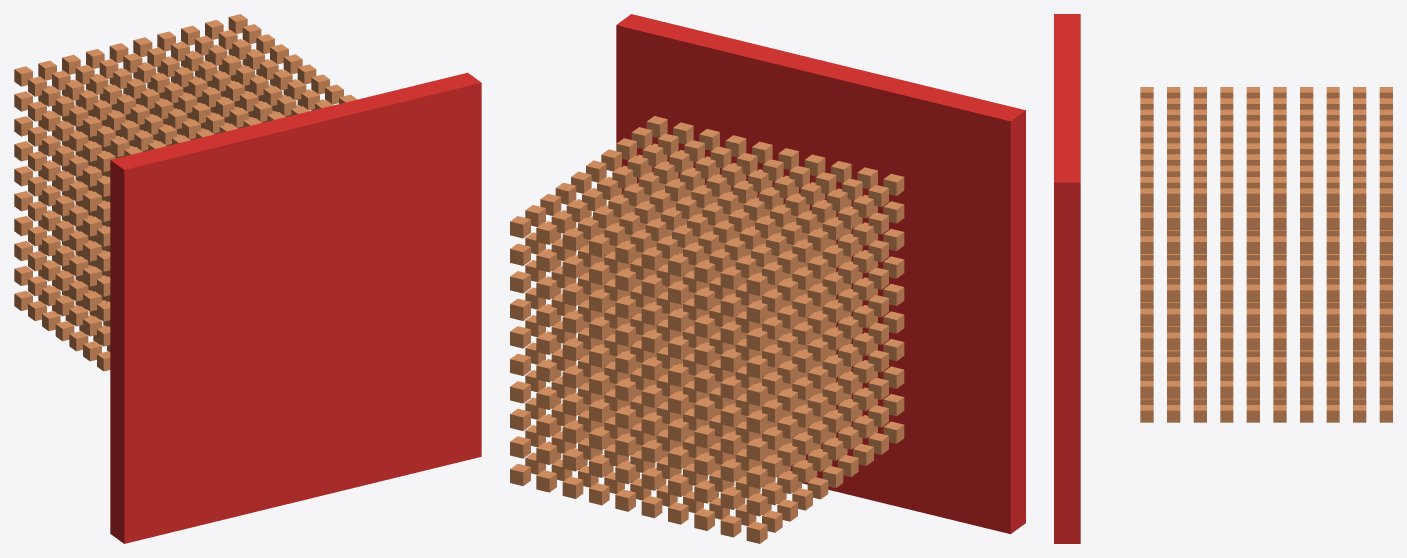
File: testing_prepass.glb
3 views of the same model, side by side, from view 1: azimuth 30°, elevation 25°; view 2: azimuth 150°, elevation 25°; view 3: azimuth 270°, elevation 25° (orthographic). The views are drawn at different scales.
Visible parts, largest first — view 1: lsat; view 2: lsat; view 3: lsat.
Boxes of the visible parts, bbox=[...] form: lsat: bbox=[110, 72, 481, 543]; lsat: bbox=[616, 14, 1025, 534]; lsat: bbox=[1054, 14, 1080, 543].
Size of the model in its own units: 30 by 30 by 25.5.
